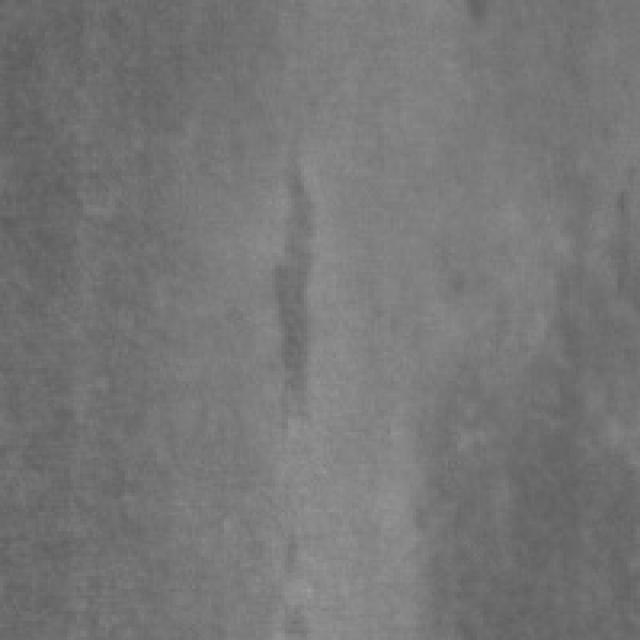inclusion: (413, 247, 630, 630), (250, 144, 320, 432)
